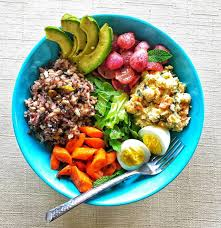Eggs: (140, 127, 169, 154), (120, 141, 148, 166)
Lettuce: (96, 85, 128, 137)
